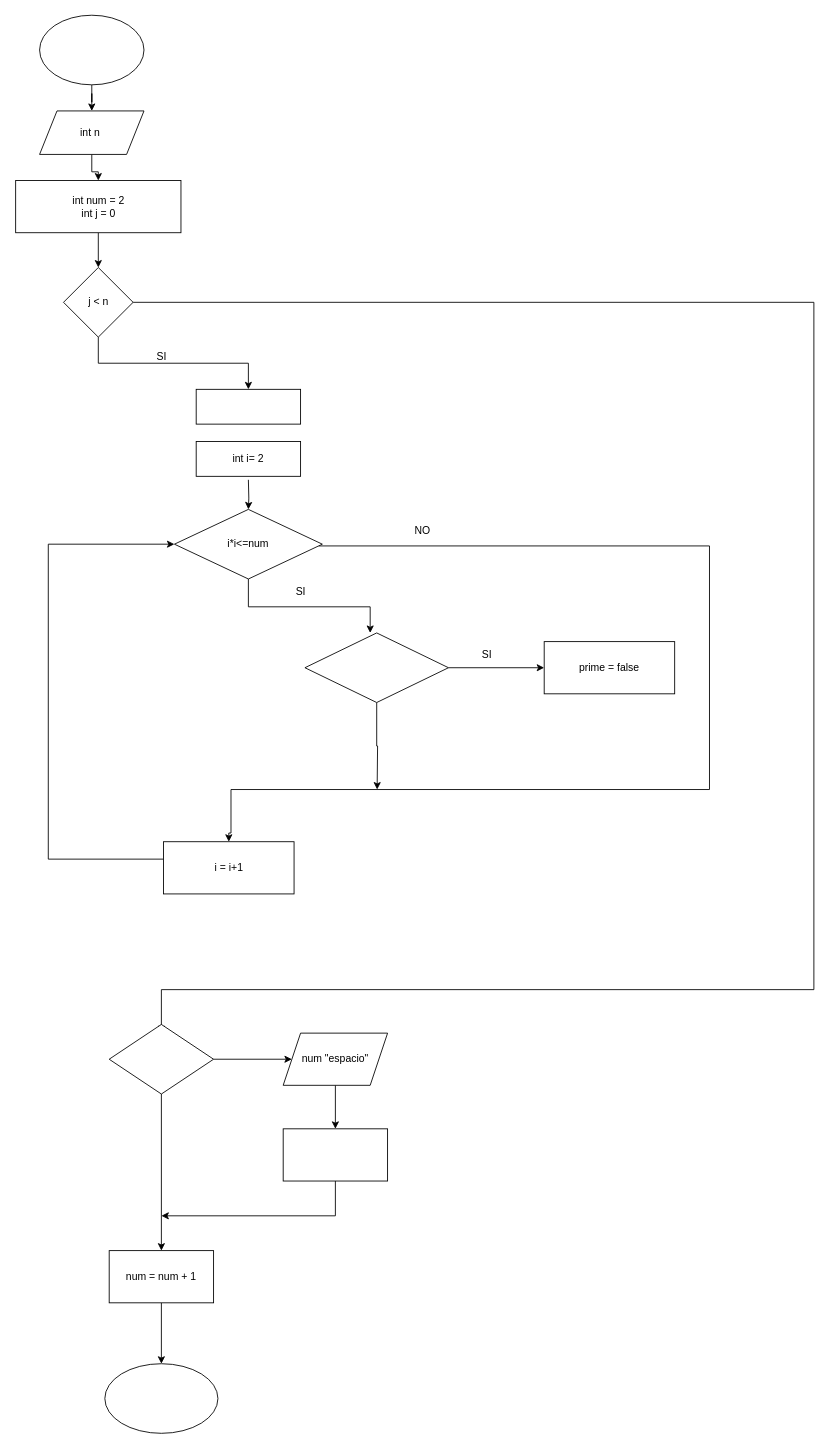
The diagram is 836 pixels wide and 1449 high, and some of its shapes have lost their labels. Here are the shapes that lost their labels. From the top down, the box of each, then its label:
(39, 14, 144, 85): INICIO
(195, 388, 301, 424): boolprime = true
(304, 632, 448, 703): num %|= 0
(108, 1024, 214, 1094): prime
(282, 1128, 388, 1181): j=j+1
